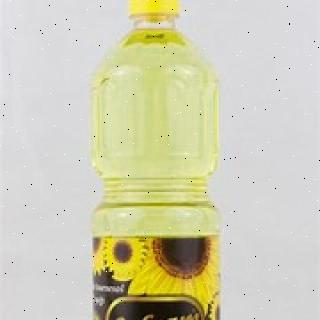Plastic-bottle: (83, 1, 227, 320)
